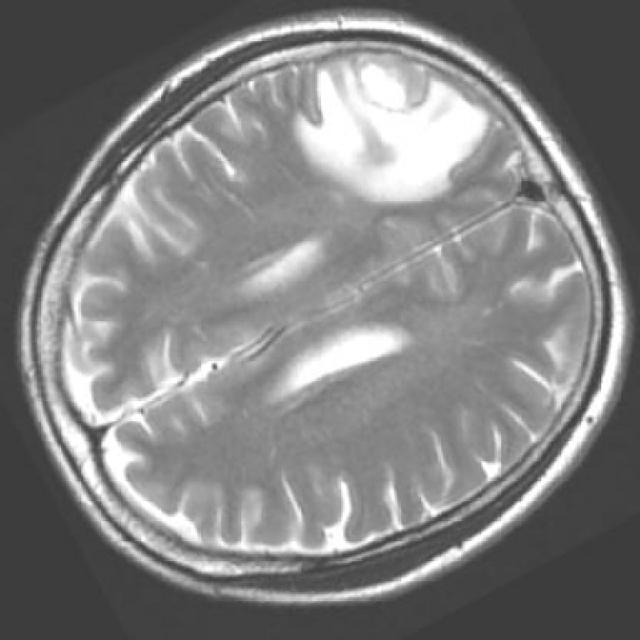Brain-Tumor: (299, 44, 519, 196)
